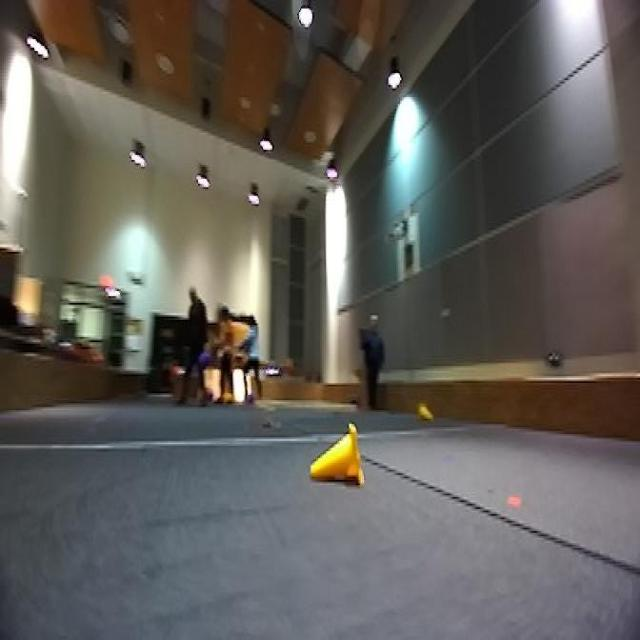frc_cone: (308, 419, 362, 490), (412, 396, 438, 424)
frc_cube: (192, 346, 214, 376)
